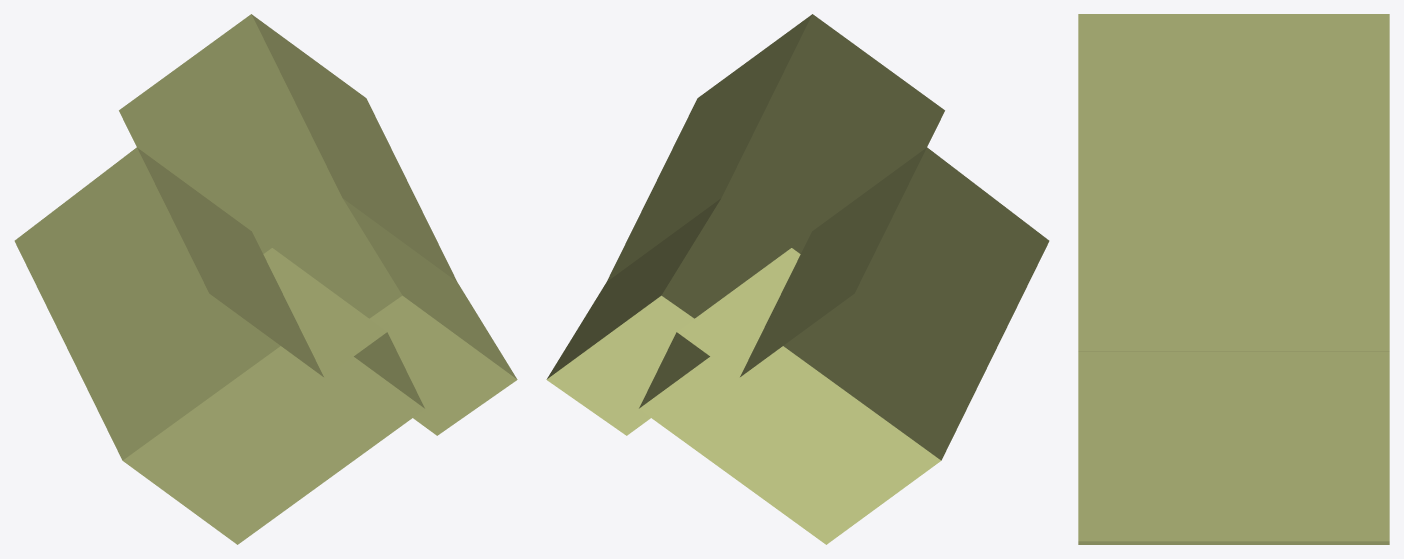
3 views of the same model, side by side, from view 1: azimuth 30°, elevation 25°; view 2: azimuth 150°, elevation 25°; view 3: azimuth 270°, elevation 25° (orthographic). The views are drawn at different scales.
Parts seen in each view (by area): view 1: 0_1_0_2_0_0_3_1_3_0_2; view 2: 0_1_0_2_0_0_3_1_3_0_2; view 3: 0_1_0_2_0_0_3_1_3_0_2.
Boxes of the visible parts, x1=… form: 0_1_0_2_0_0_3_1_3_0_2: x1=14, y1=14, x2=517, y2=544; 0_1_0_2_0_0_3_1_3_0_2: x1=546, y1=14, x2=1049, y2=544; 0_1_0_2_0_0_3_1_3_0_2: x1=1078, y1=14, x2=1389, y2=544.
Size of the model in its own units: 11.68 by 11.95 by 6.
